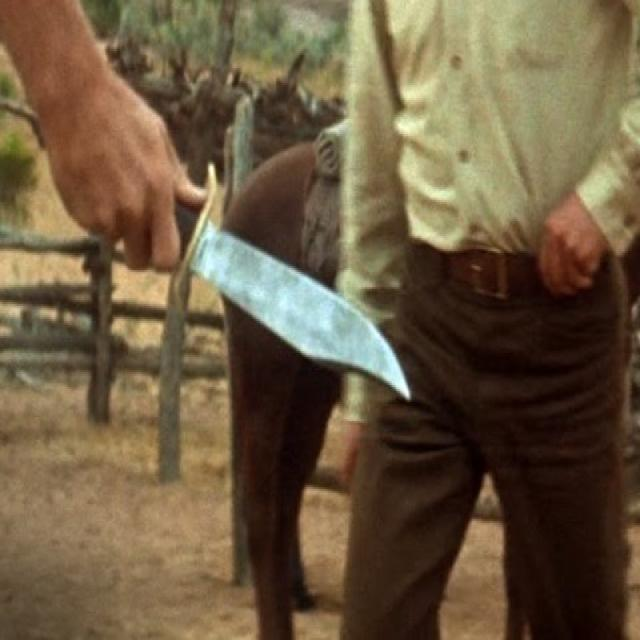knife: (179, 159, 417, 409)
